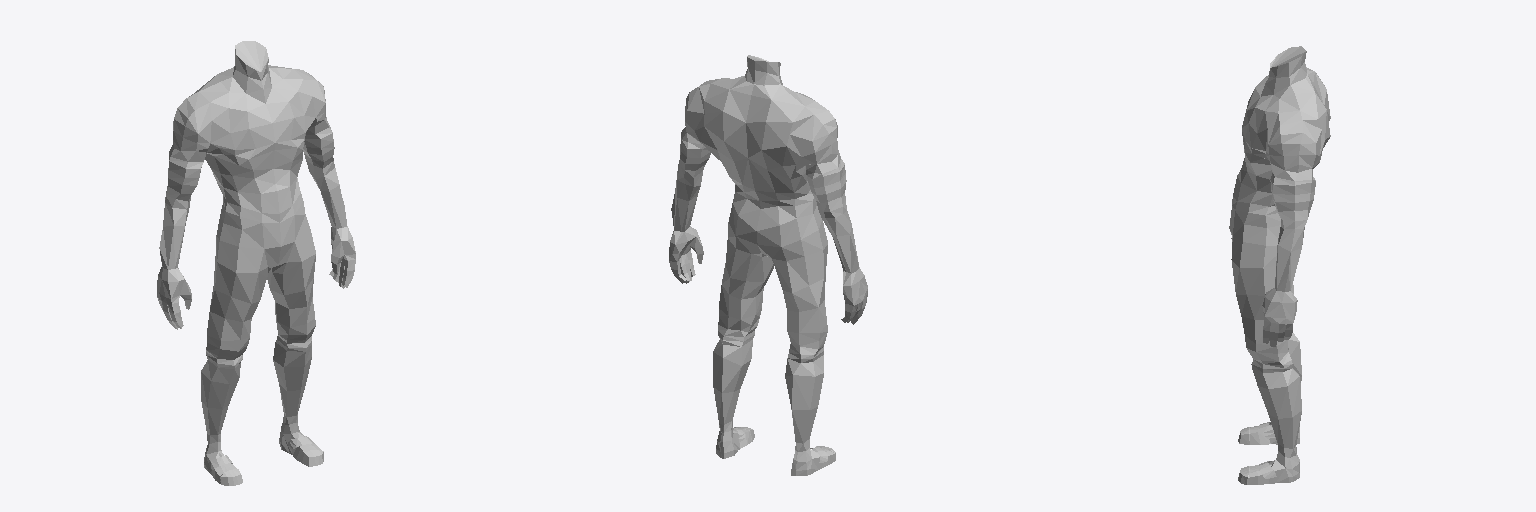
The model's file is undersuit.obj.
The picture shows the model from 3 angles: view 1: azimuth 30°, elevation 25°; view 2: azimuth 150°, elevation 25°; view 3: azimuth 270°, elevation 25°; orthographic projection.
Visible parts, largest first — view 1: chief_body.003_MercMesh.007, chief_body.004_MercMesh.008; view 2: chief_body.003_MercMesh.007; view 3: chief_body.003_MercMesh.007.
Boxes of the visible parts, box(x1,y1,x2,y2) form: chief_body.003_MercMesh.007: box(157, 41, 355, 483); chief_body.004_MercMesh.008: box(220, 450, 323, 485); chief_body.003_MercMesh.007: box(669, 55, 867, 475); chief_body.003_MercMesh.007: box(1229, 46, 1330, 484).
Size of the model in its own units: 0.7437 by 1.54 by 0.3459.